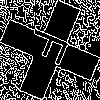F: (25, 25, 79, 71)
